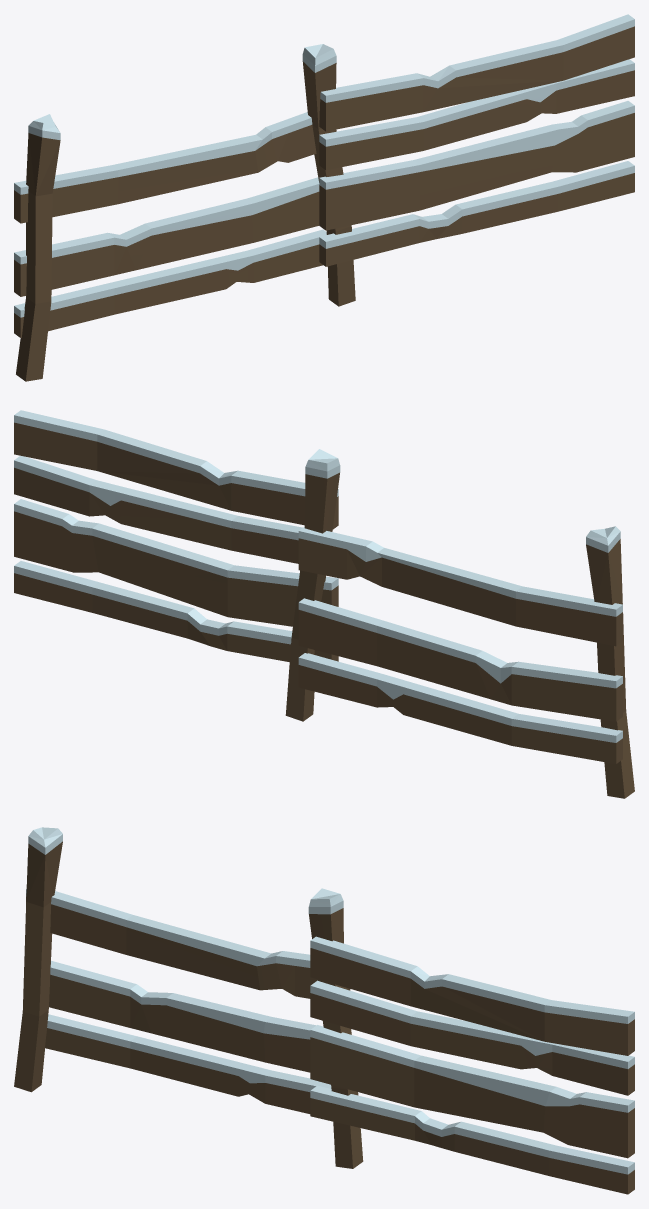
Rendered from SM_Bld_Fence_01_Snow.gltf.
3 renders of one model, top to bottom at view 1: azimuth 30°, elevation 25°; view 2: azimuth 150°, elevation 25°; view 3: azimuth 330°, elevation 25°, orthographic. The views are drawn at different scales.
Visible parts, largest first — view 1: SM_Bld_Fence_01_Snow; view 2: SM_Bld_Fence_01_Snow; view 3: SM_Bld_Fence_01_Snow.
Part boxes in pixels (x1,y1,x2,y2): SM_Bld_Fence_01_Snow: (14,14,634,381); SM_Bld_Fence_01_Snow: (14,410,634,798); SM_Bld_Fence_01_Snow: (14,827,634,1194).
Size of the model in its own units: 3.12 by 1.28 by 0.2647.
1 material, 1 textured.
